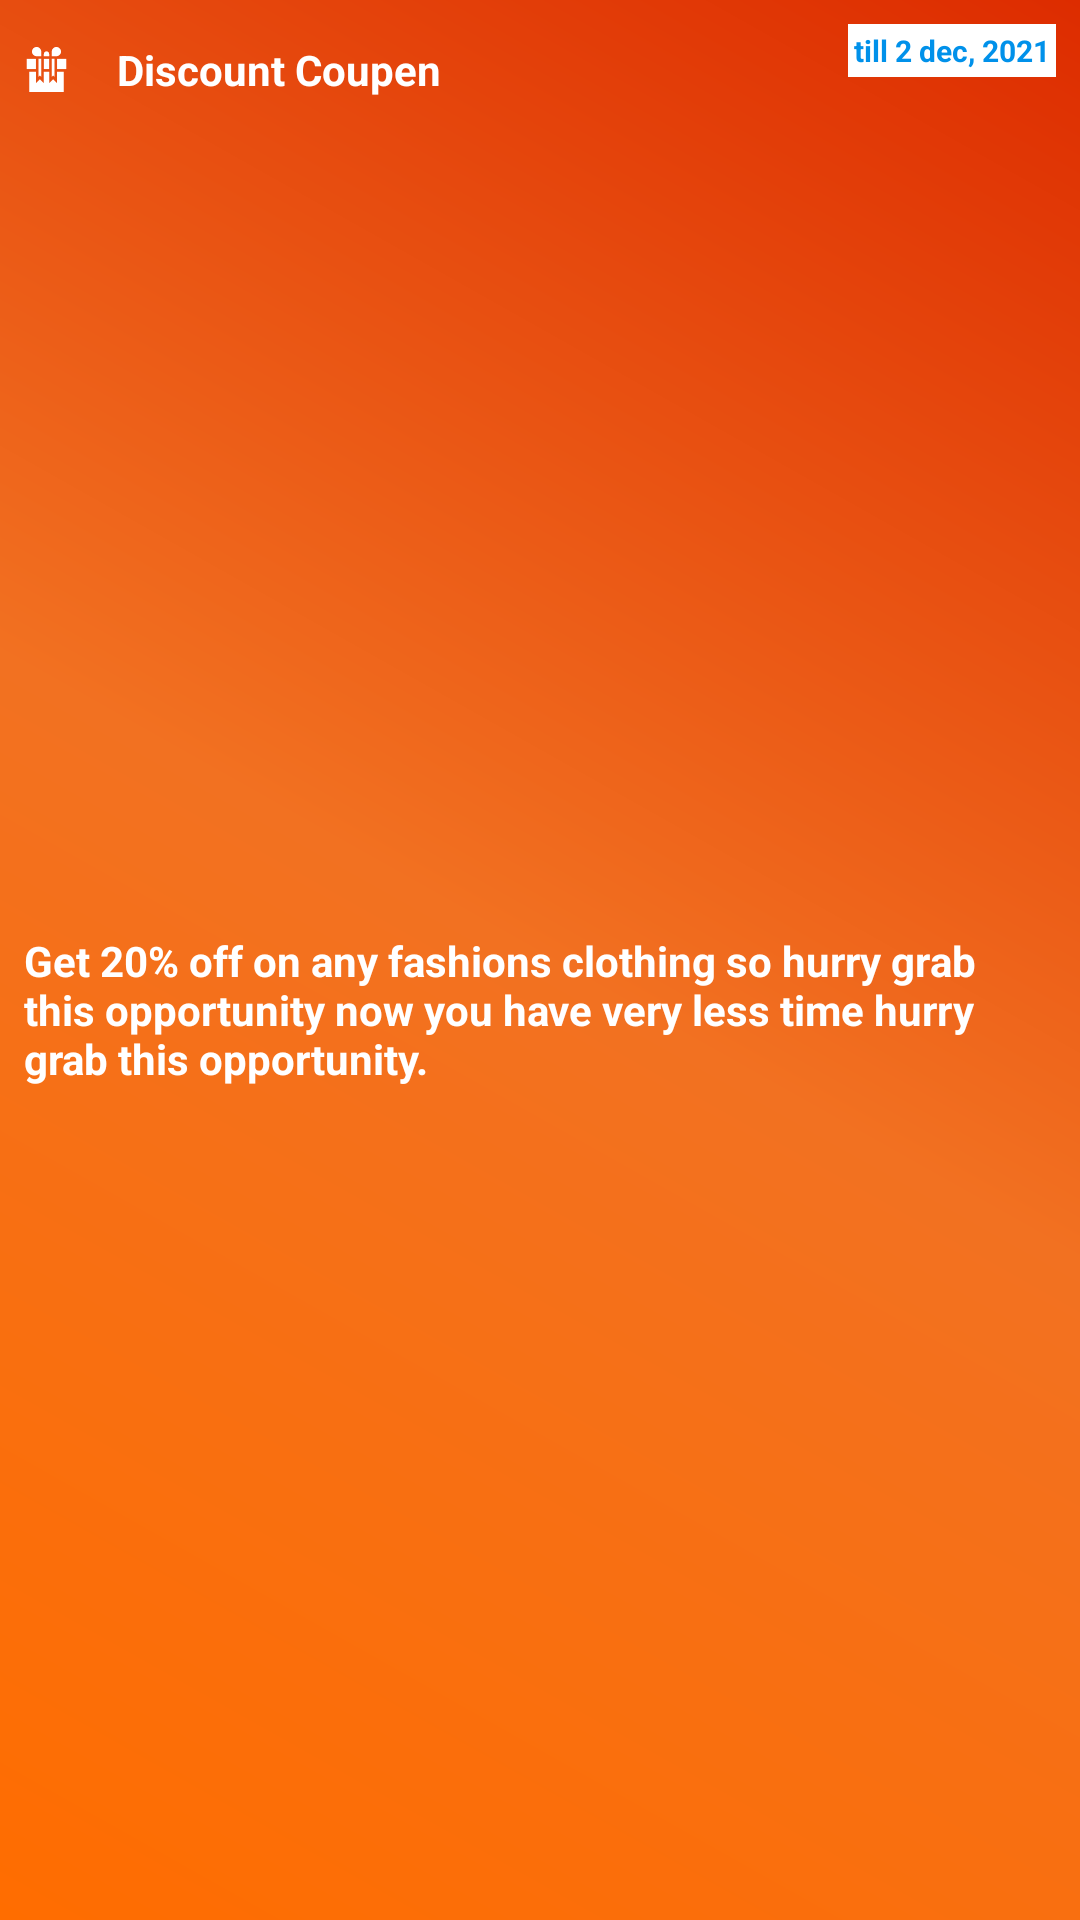

Named icons in this screenshot (1080×1920) and their bounding boxes, bbox=[x1, y1, x2, y2]:
rewards: bbox=[26, 47, 67, 92]
